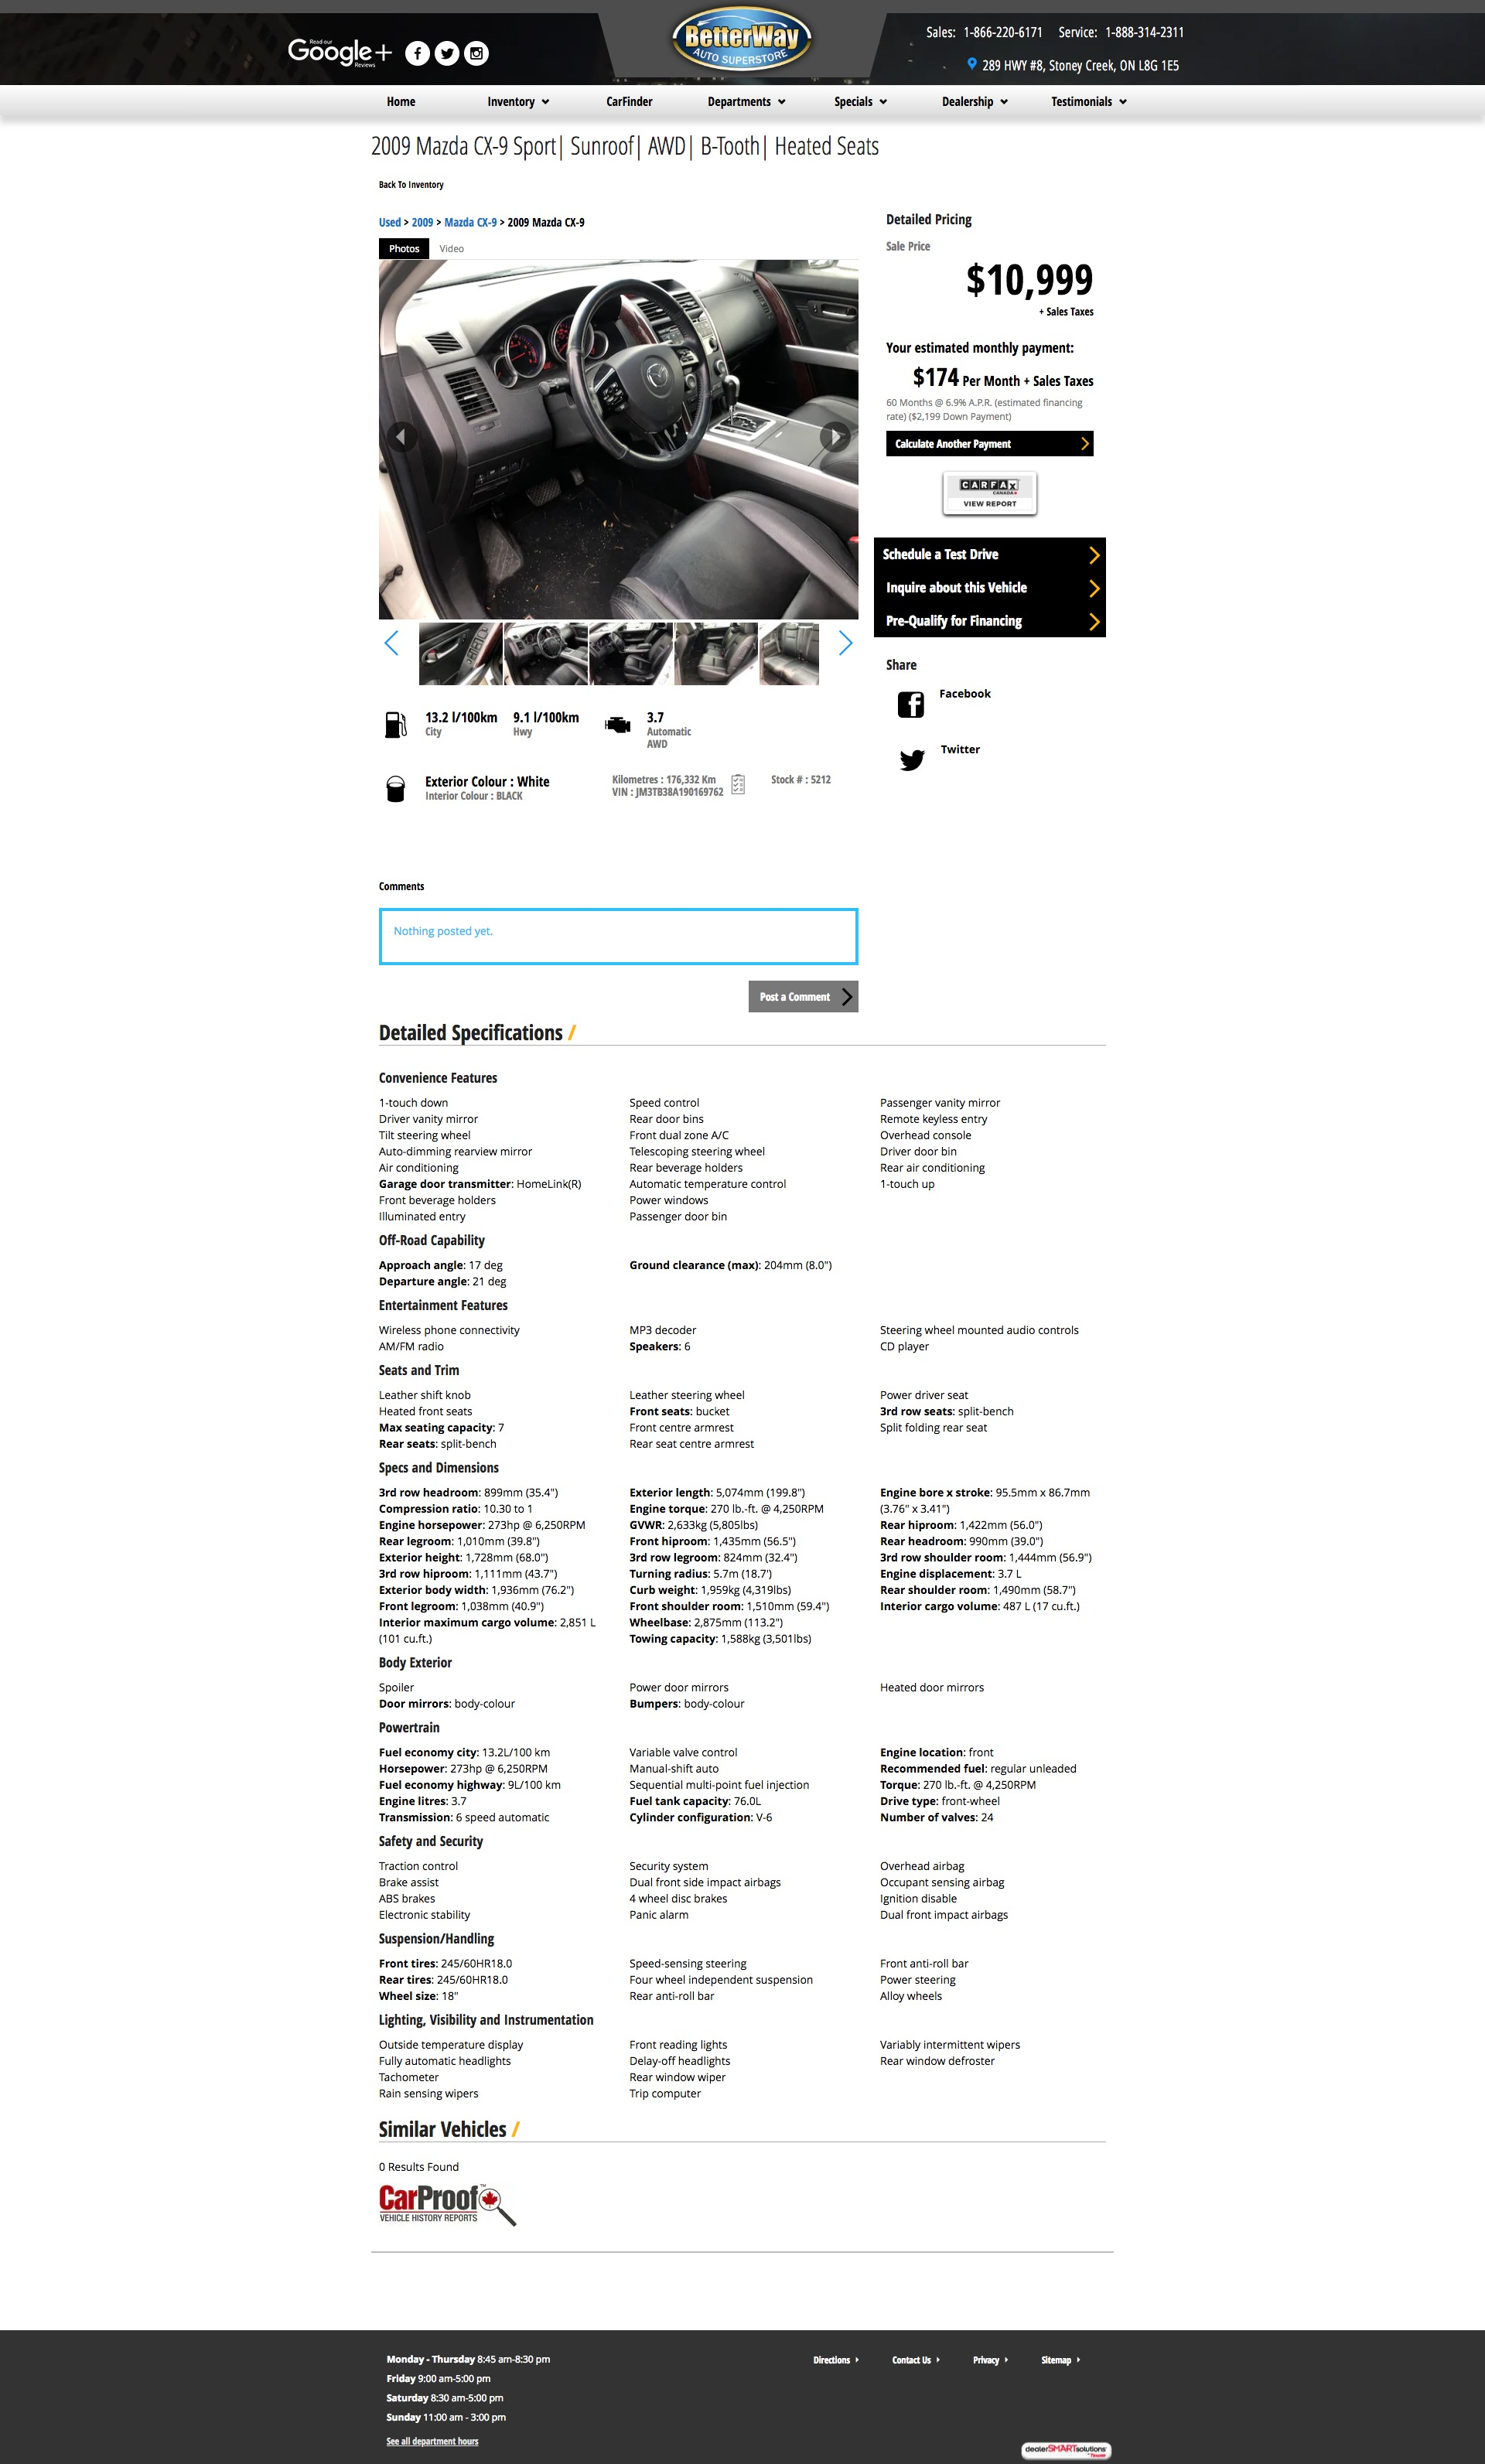car: (839, 632, 853, 656)
